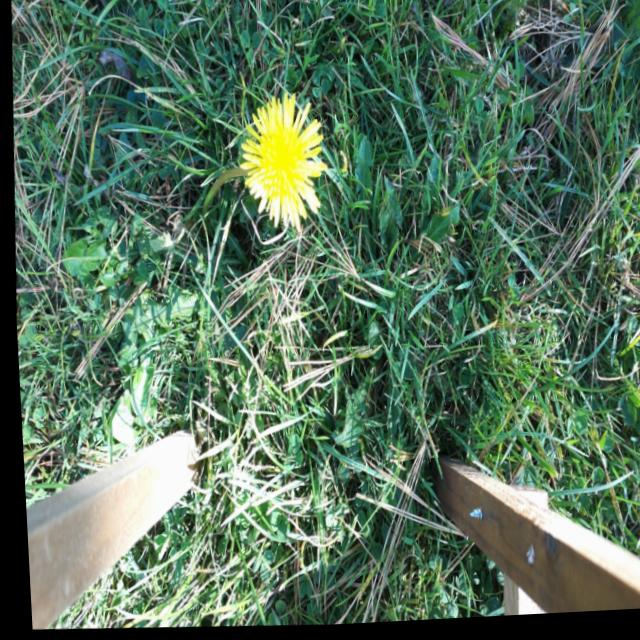base: (192, 214, 218, 253)
